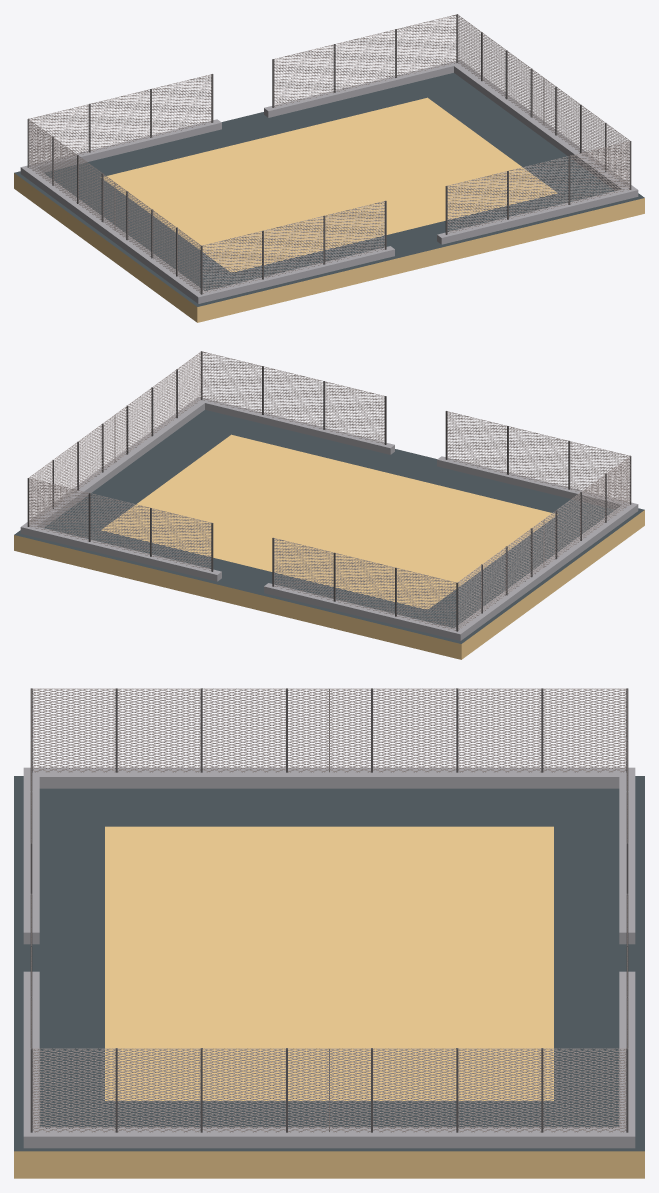
3 renders of one model, top to bottom at view 1: azimuth 30°, elevation 25°; view 2: azimuth 150°, elevation 25°; view 3: azimuth 270°, elevation 25°, orthographic. The views are drawn at different scales.
Parts seen in each view (by area): view 1: Base; view 2: Base; view 3: Base.
Boxes of the visible parts, <box> form: Base: <box>14,14,644,322</box>; Base: <box>14,351,644,659</box>; Base: <box>14,688,644,1178</box>.
Size of the model in its own units: 579 by 87.86 by 411.
